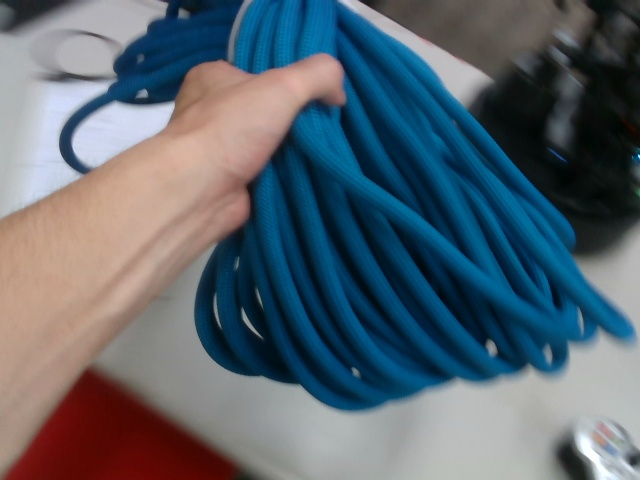rope: (53, 2, 640, 416)
